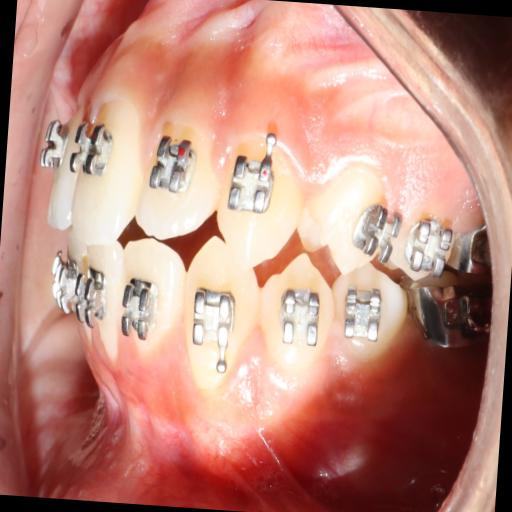correct_brace: (296, 146, 391, 284), (256, 252, 338, 376), (185, 279, 239, 368), (276, 278, 326, 354), (225, 146, 276, 220), (148, 134, 200, 199), (70, 112, 118, 180), (118, 275, 162, 345), (338, 282, 384, 344)
incorrect_brace: (139, 102, 225, 242), (114, 238, 190, 368), (352, 188, 406, 266)
